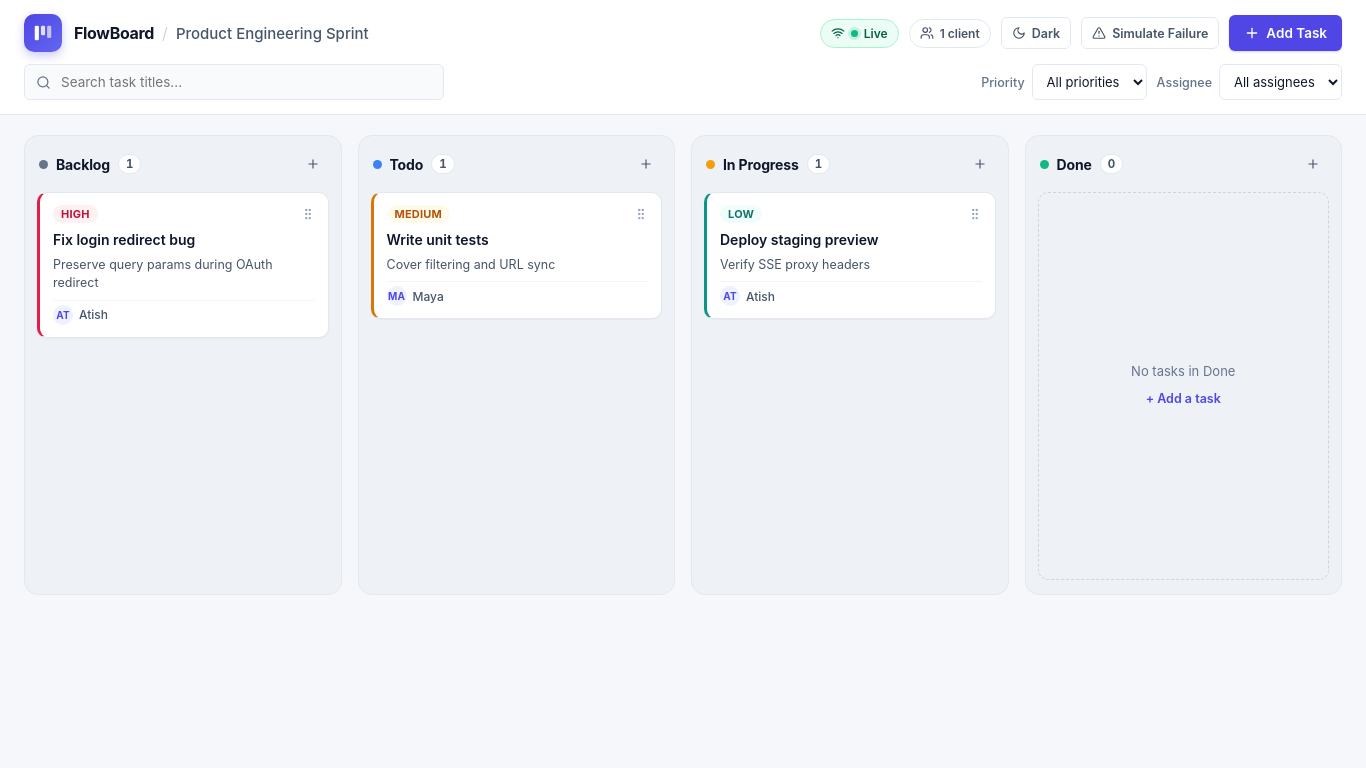
Test: BoardPage UI, URL restoration, concurrency, and rollback › optimistically creates a task and rolls back when the backend returns an error
Later steps or results of the test are not shown.
Expected: the heading "Fix login redirect bug" is shown, x1=53 y1=231 x2=195 y2=248
Click the button "Add Task".
click(1286, 33)  # box x1=1229 y1=15 x2=1342 y2=51
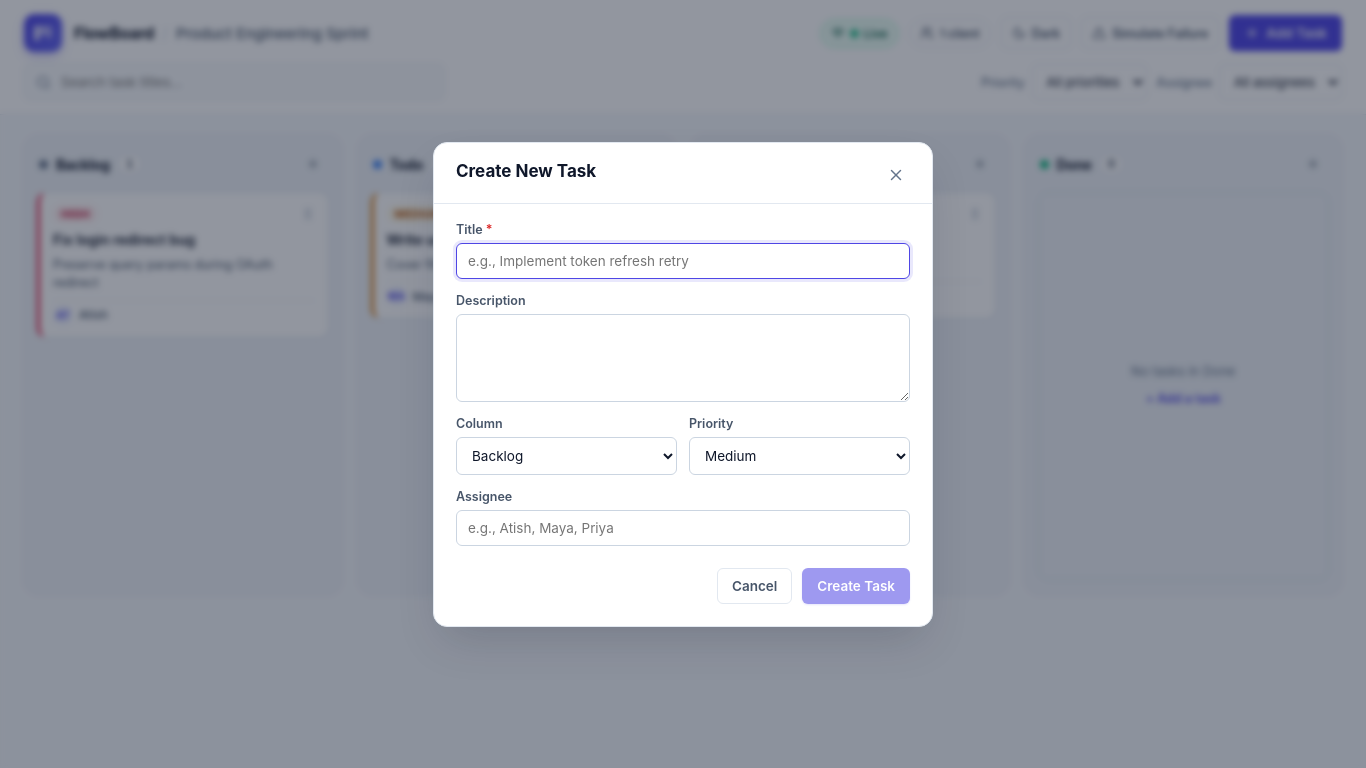
Type "Optimistic Rollback Task" into the field labelled "Title *".
click(683, 260); type("Optimistic Rollback Task")  # box x1=456 y1=242 x2=910 y2=278
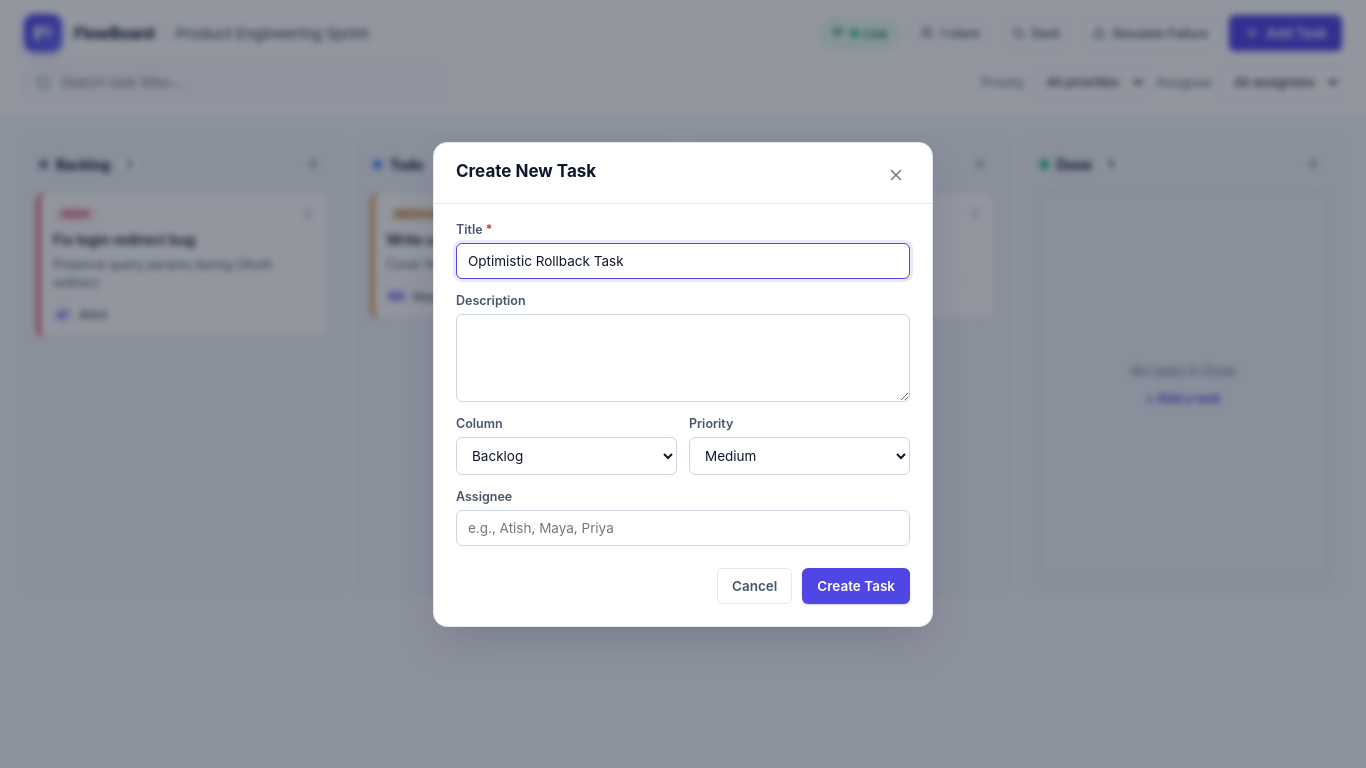
Click the button "Create Task".
click(856, 586)  # box x1=802 y1=568 x2=910 y2=604
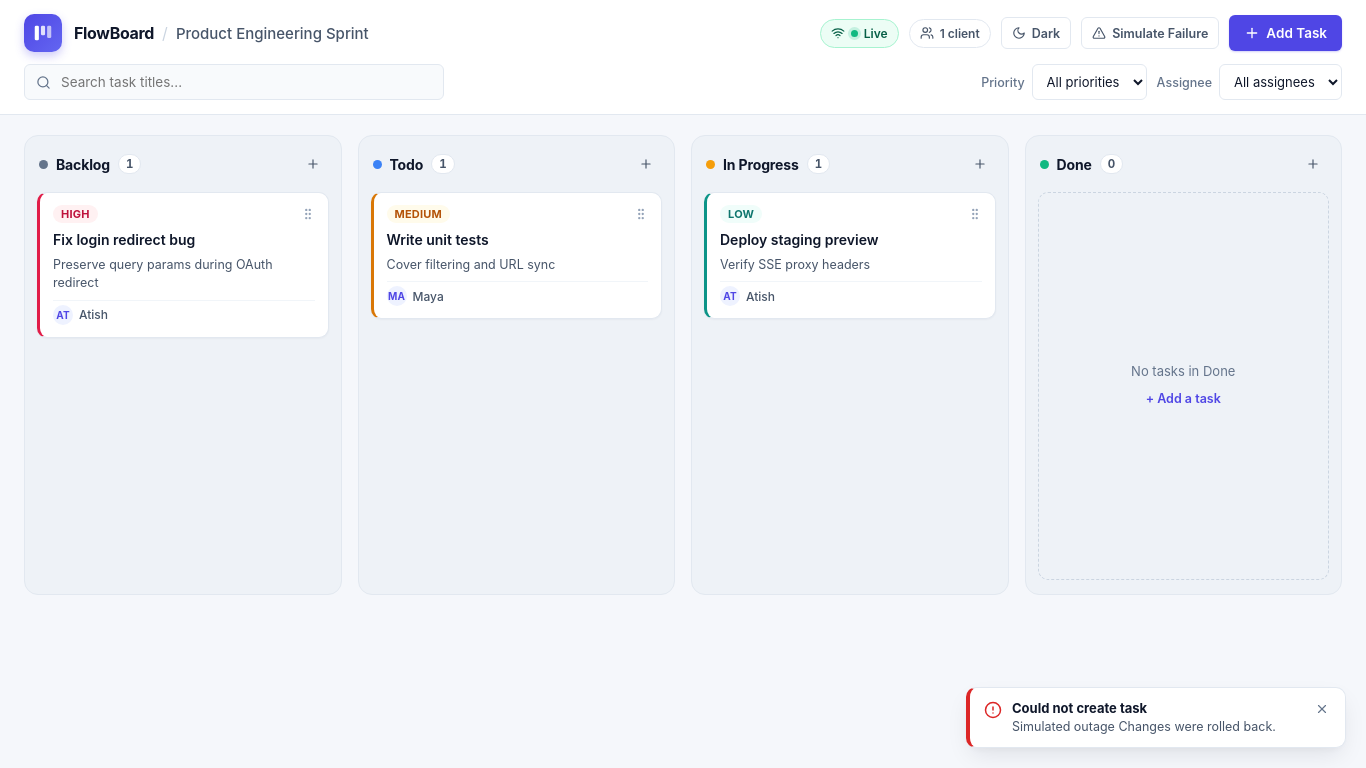
Expected: the text "Optimistic Rollback Task" is not shown
Result: the text "Could not create task" is shown at x1=1012 y1=700 x2=1147 y2=716
